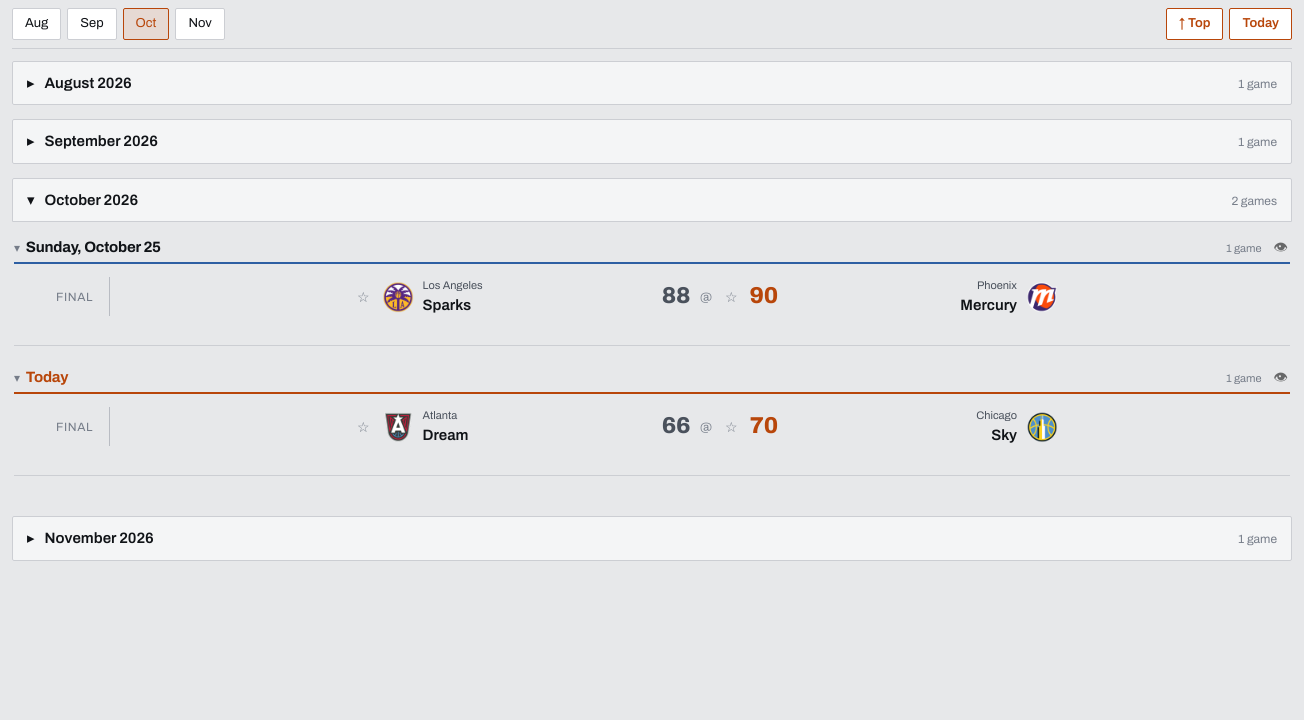
ScheduleView › full season — collapsible months + jump bar › expands a collapsed month on click, then collapses the current one
The width and height of the screenshot is (1304, 720).
What coordinates should you click on to do the following:
click the button with class "month-head" showing "▸ August 2026 1 game"
I would click on:
 (88, 82)
Its box is x1=12 y1=60 x2=1292 y2=105.
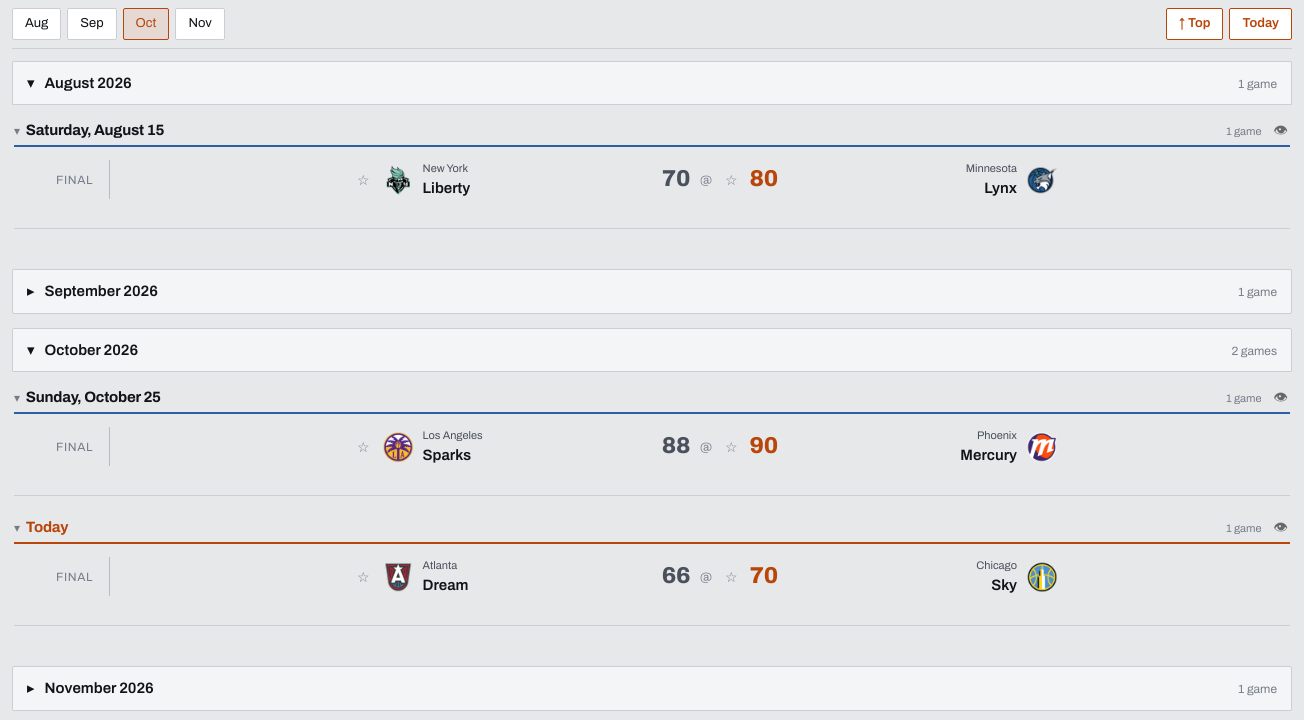
Expected: the 1st text with class "month-count" reads "1 game", x1=1238 y1=74 x2=1277 y2=92
Expected: the number of elements with class "month-days" is 2, x1=12 y1=105 x2=1292 y2=255; x1=12 y1=372 x2=1292 y2=652
// Collapsing the current month hides its days again.
What coordinates should you click on to do the following:
click the button with class "month-head" showing "▾ August 2026 1 game"
I would click on:
 (88, 82)
Its box is x1=12 y1=60 x2=1292 y2=105.
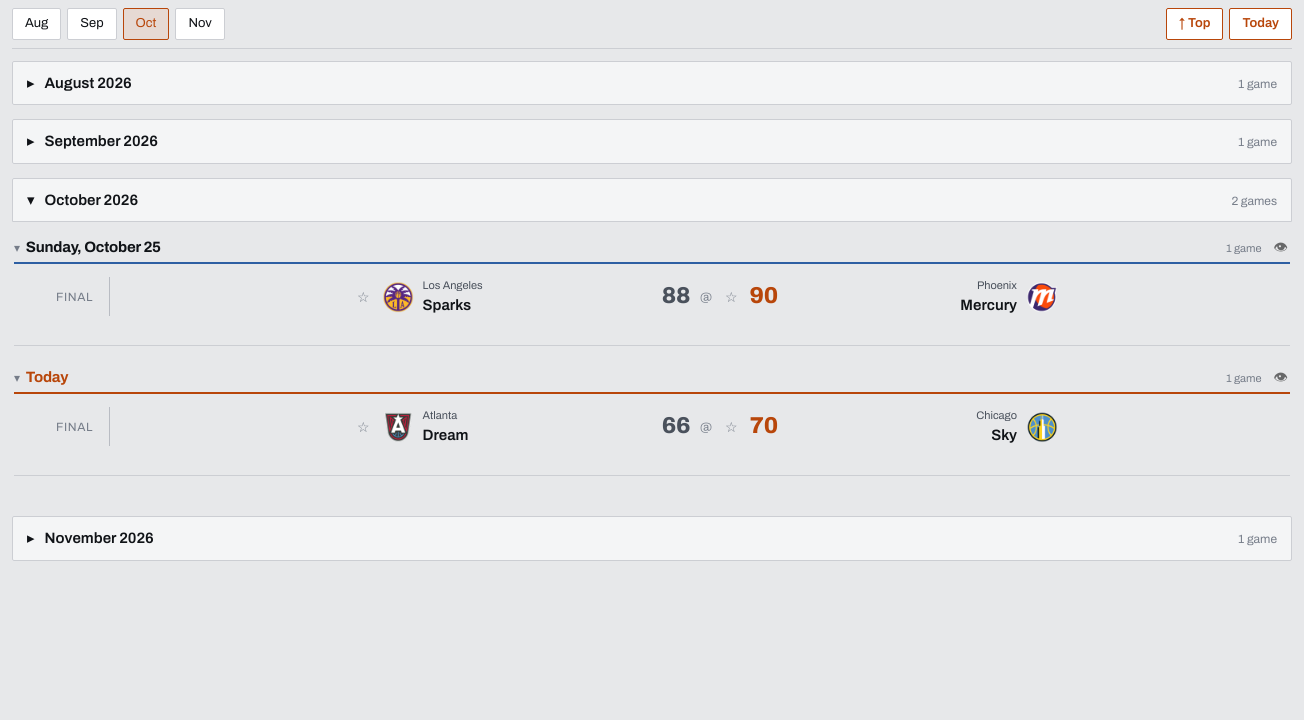
Expected: the number of elements with class "month-days" is 1, x1=12 y1=222 x2=1292 y2=502
